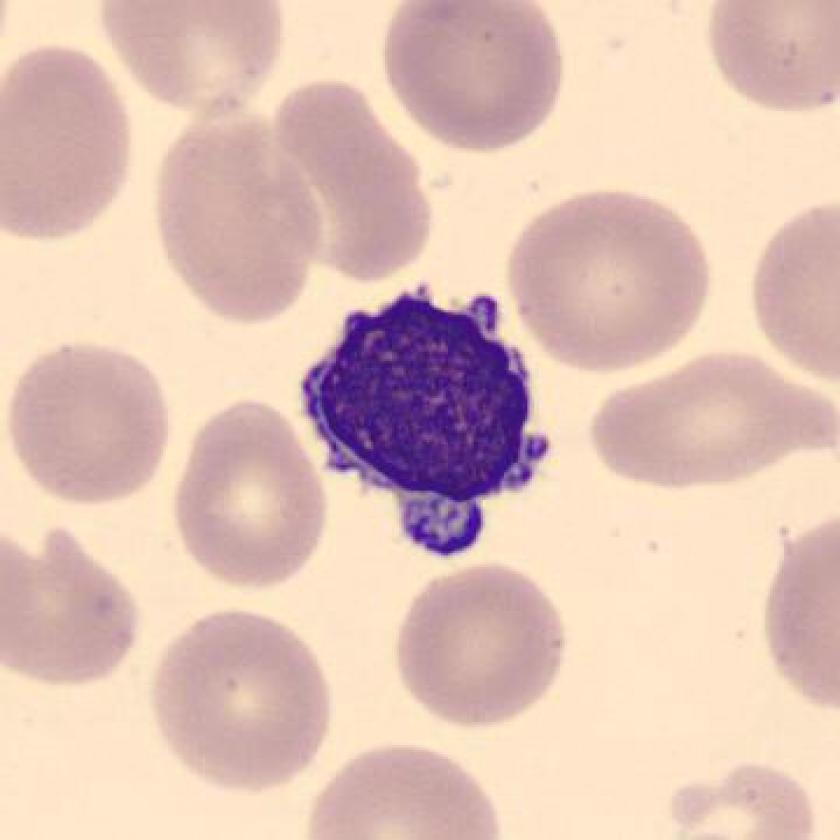lymphocyte: (295, 274, 570, 566)
